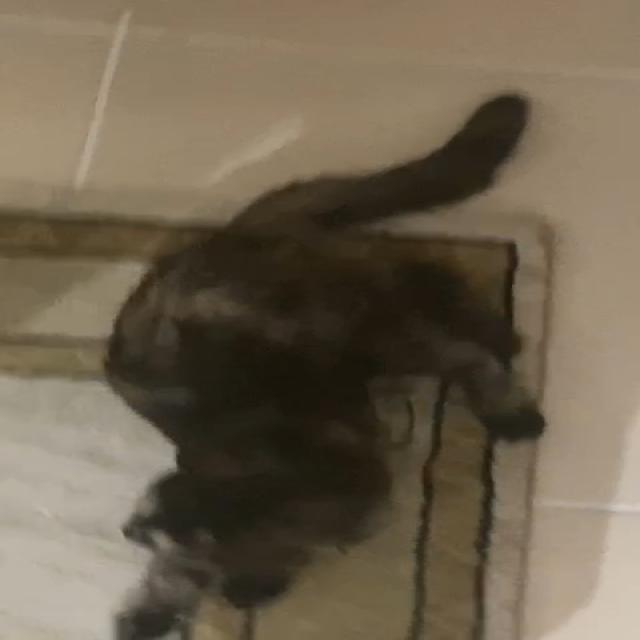authorized: (100, 91, 547, 638)
